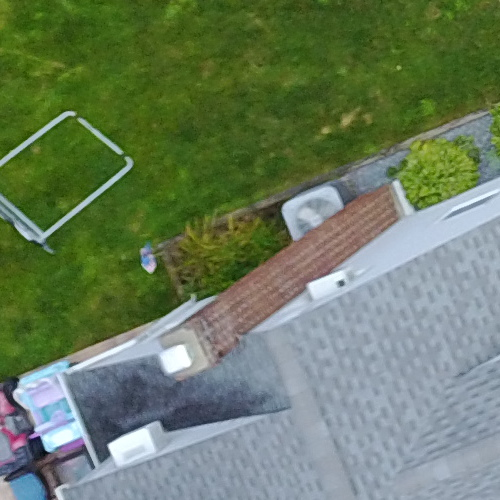no larvae: (15, 351, 77, 459), (1, 370, 38, 483)
toy: (17, 353, 79, 461), (1, 372, 38, 485)
